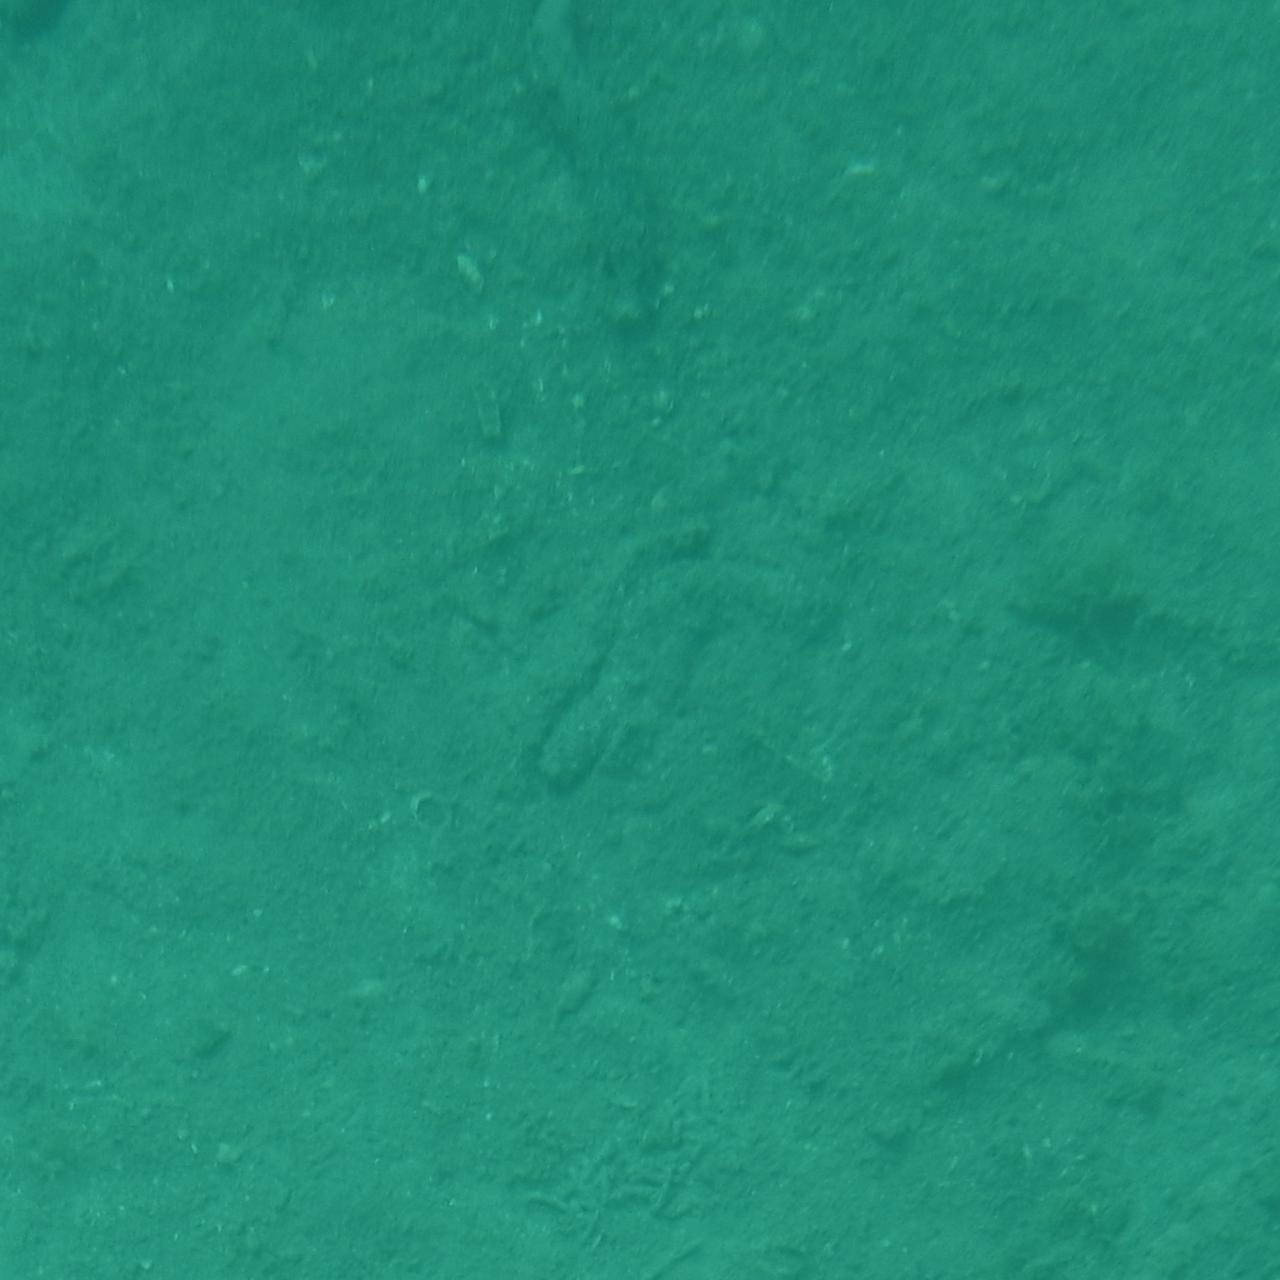Holothuria tubulosa: (532, 537, 824, 813), (499, 0, 707, 314)
